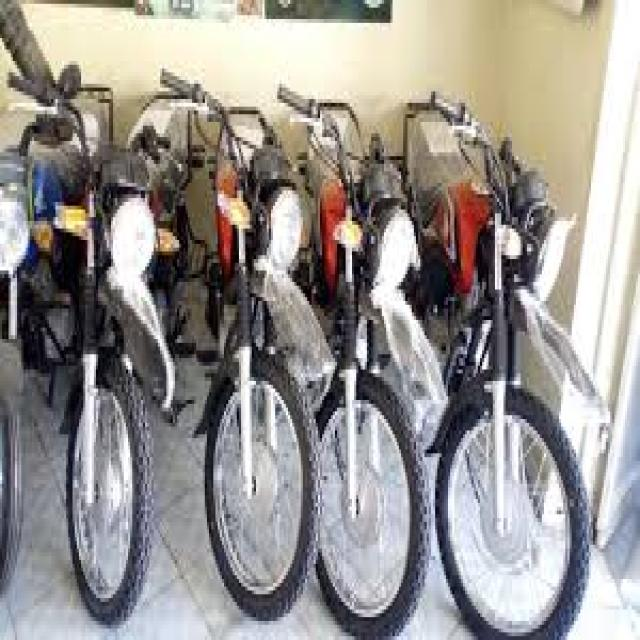bodaboda: (434, 56, 640, 636), (272, 26, 463, 640), (0, 0, 182, 640), (155, 24, 334, 632)
